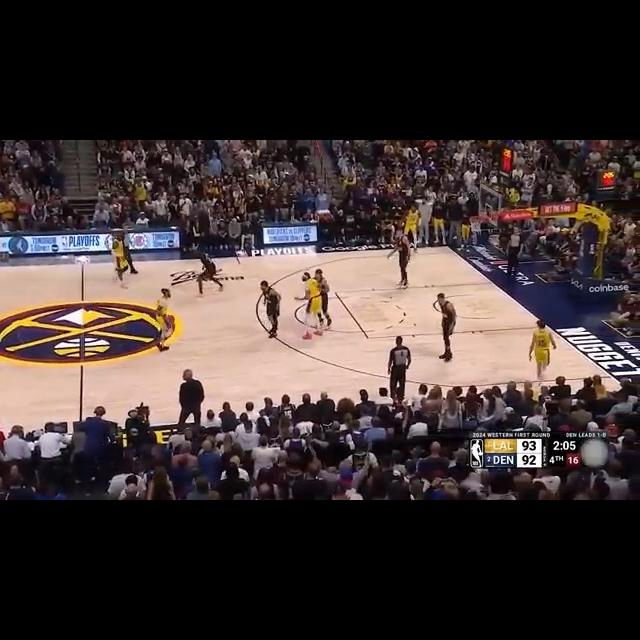basketball: (161, 309, 181, 327)
hoop: (465, 212, 487, 236)
